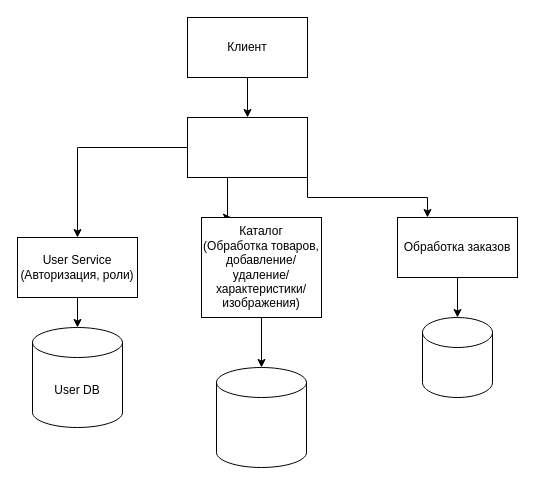
Some shapes in this 535 by 485 pixel diagram are drawn without their labels. Here are the shapes that lost their labels. From the top down, the box of each, then its label:
(186, 116, 308, 178): API-шлюз
(422, 316, 492, 398): Order Bd
(216, 366, 306, 468): Product DB
